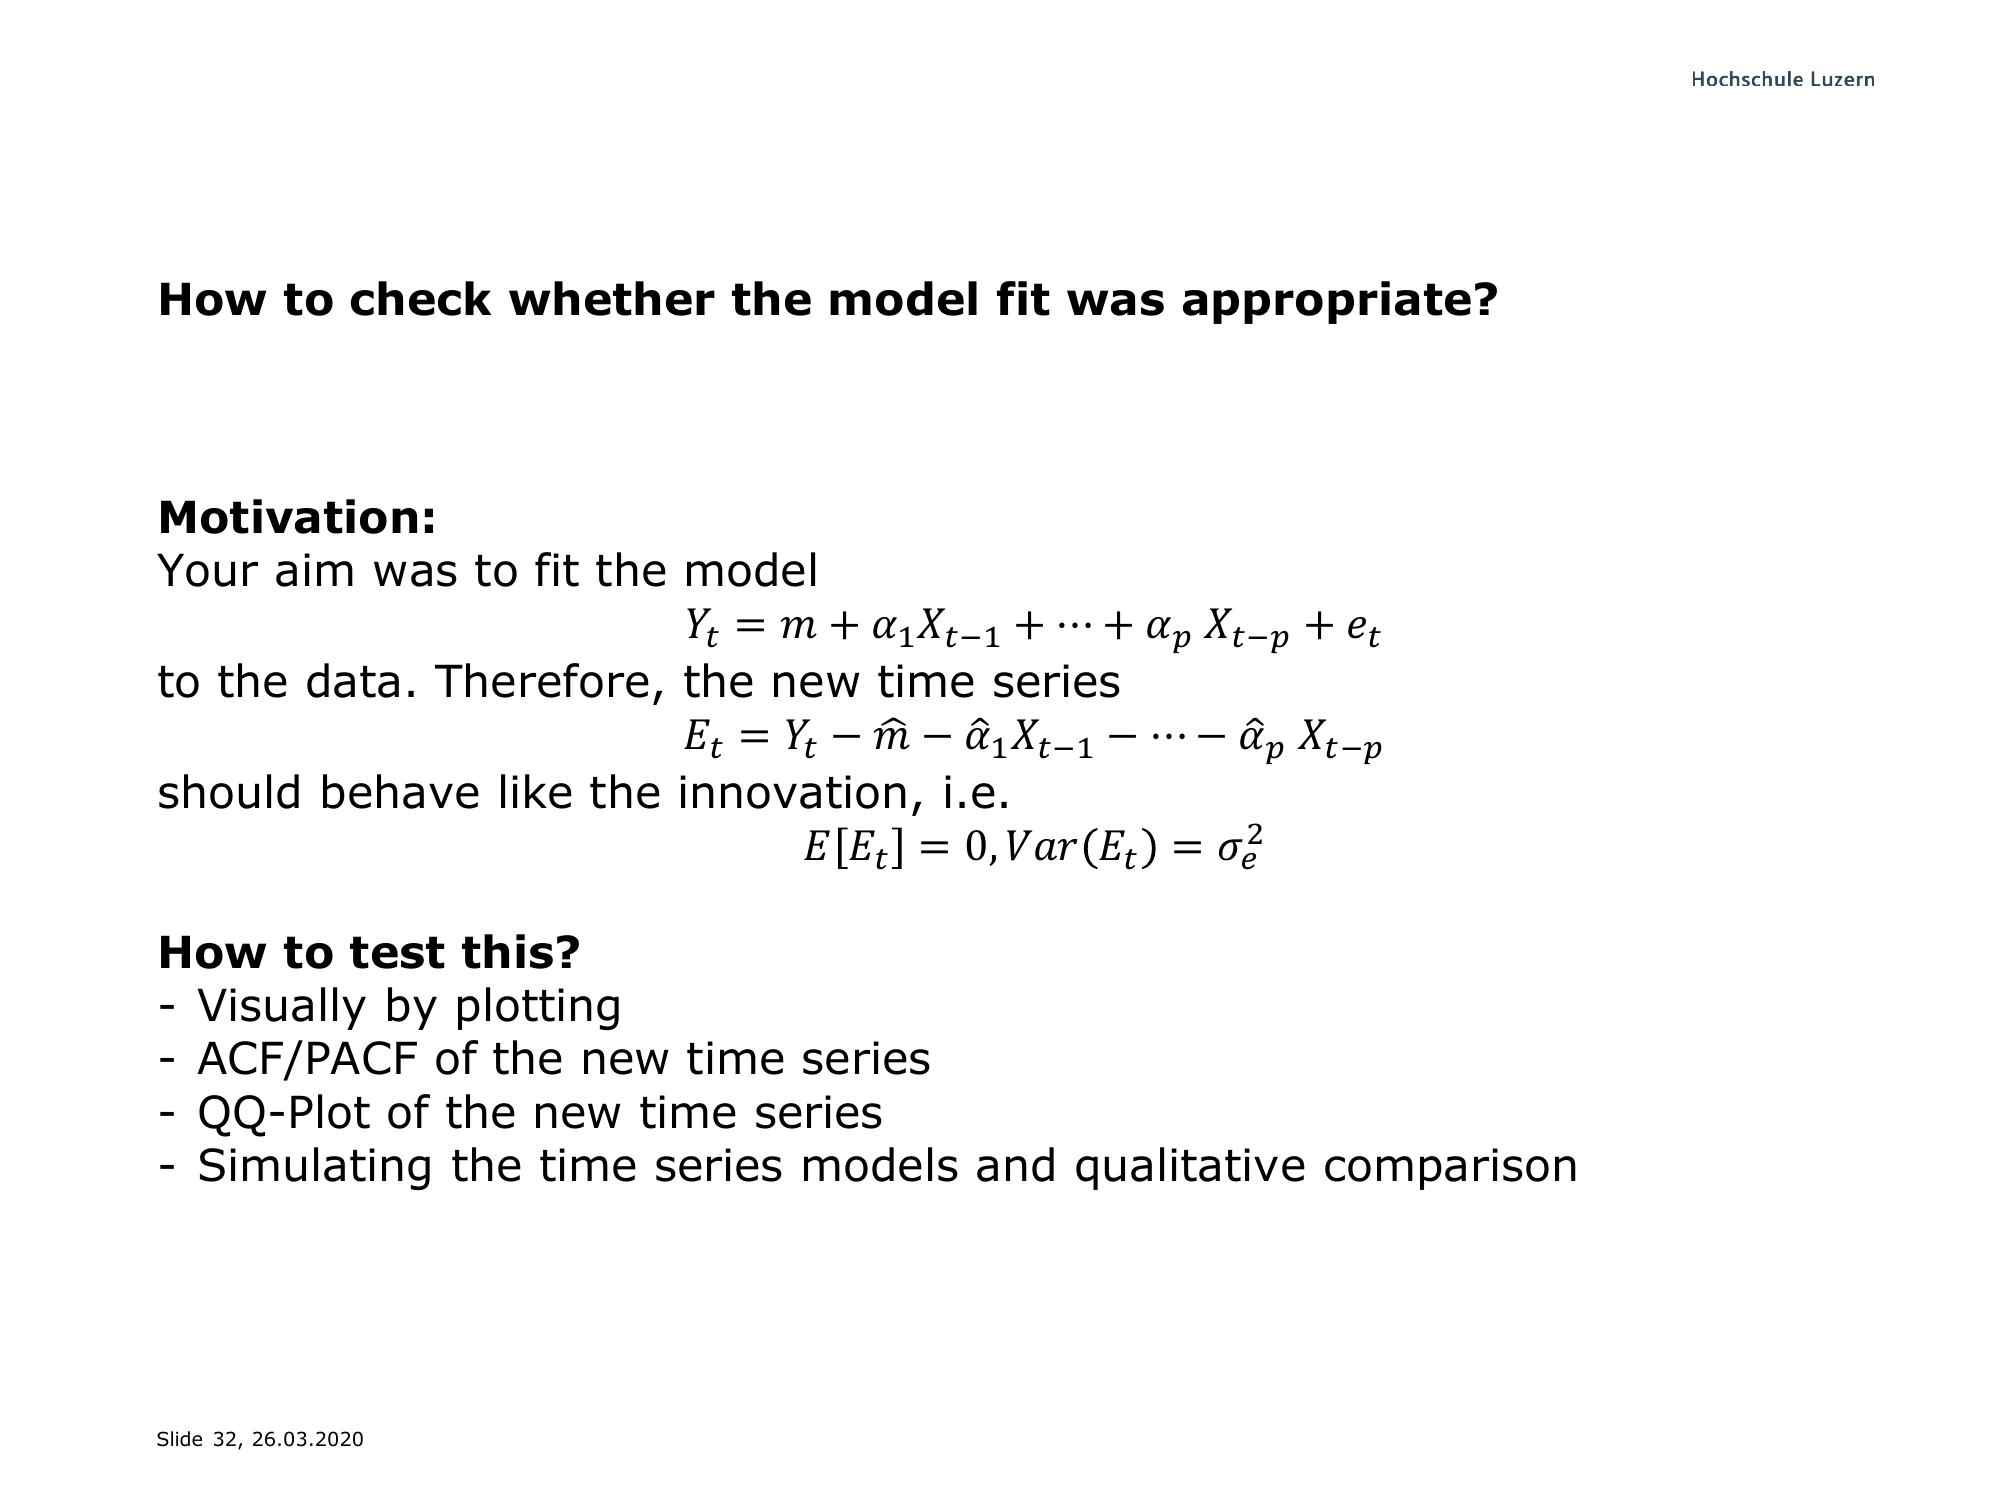Title: (135, 266, 1509, 326)
